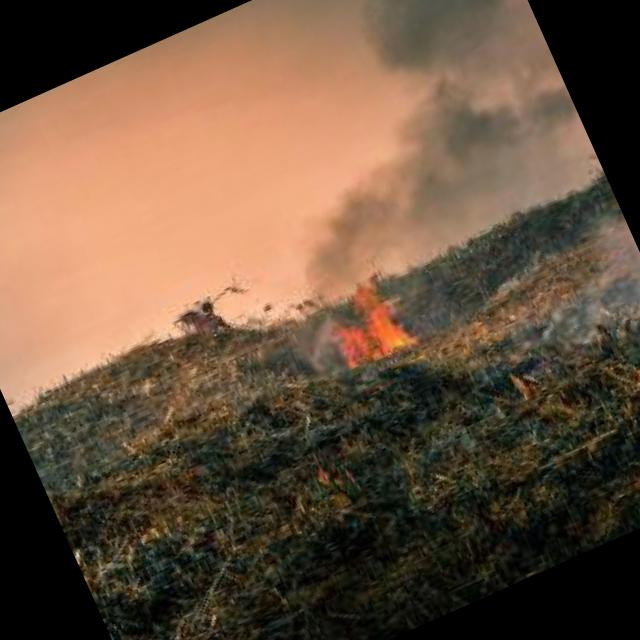fire: (332, 290, 418, 380)
smoke: (198, 0, 608, 311), (531, 196, 640, 356)
